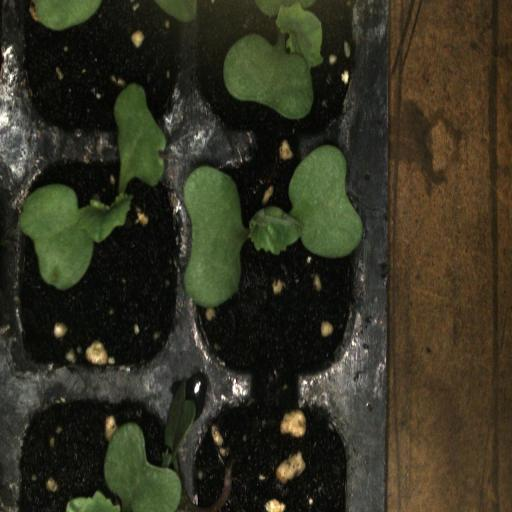Folha: (12, 184, 131, 290), (66, 422, 185, 512), (114, 83, 168, 186)
Germinacao: (7, 149, 190, 386), (189, 150, 369, 388), (190, 0, 366, 148)
